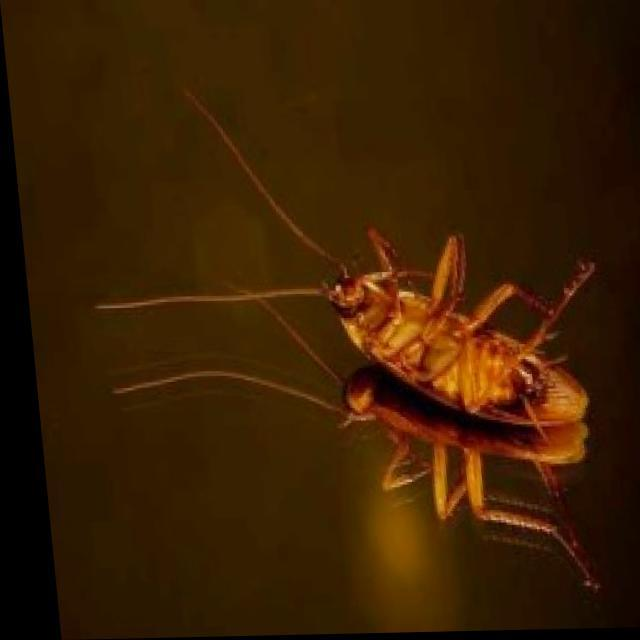cockroach: (90, 84, 611, 600)
